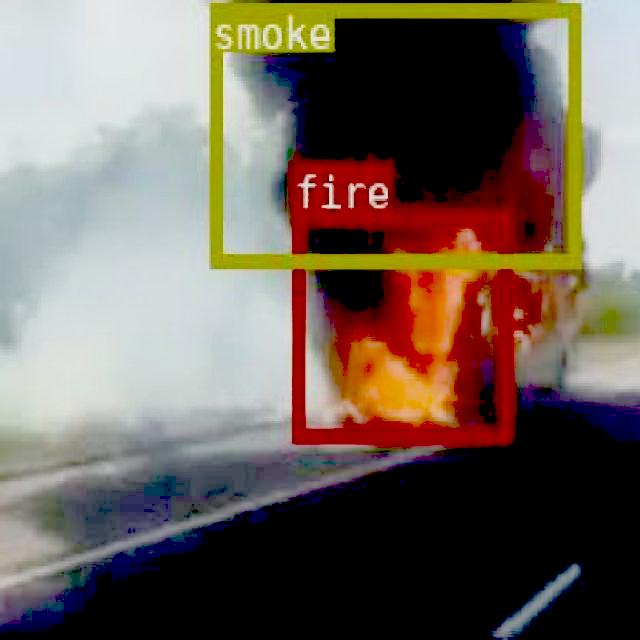fire: (292, 209, 508, 440)
smoke: (207, 1, 578, 264)
